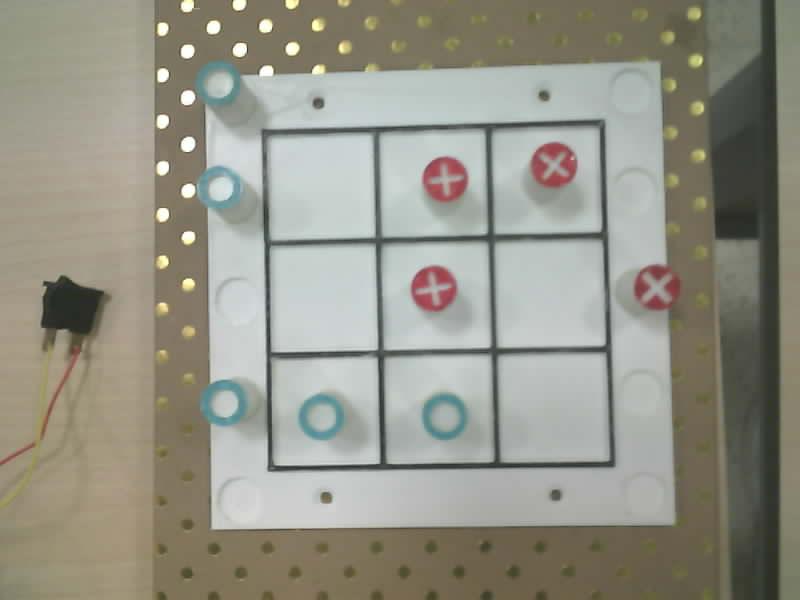blue circle: (200, 379, 247, 425), (422, 393, 467, 440), (298, 394, 343, 440), (195, 61, 240, 105), (197, 166, 241, 210)
board: (196, 63, 679, 528)
cells: (498, 353, 610, 462), (494, 238, 605, 347), (384, 353, 493, 464), (491, 125, 602, 233), (268, 244, 377, 352), (271, 357, 379, 466), (379, 128, 487, 236), (265, 133, 374, 240), (381, 243, 489, 349)
grid: (262, 120, 614, 470)
red cross: (531, 142, 578, 188), (634, 265, 680, 309), (411, 266, 456, 310), (422, 157, 467, 201)
